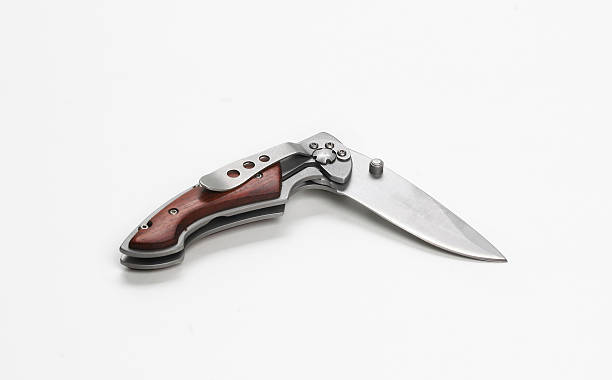knife: (331, 145, 509, 265)
